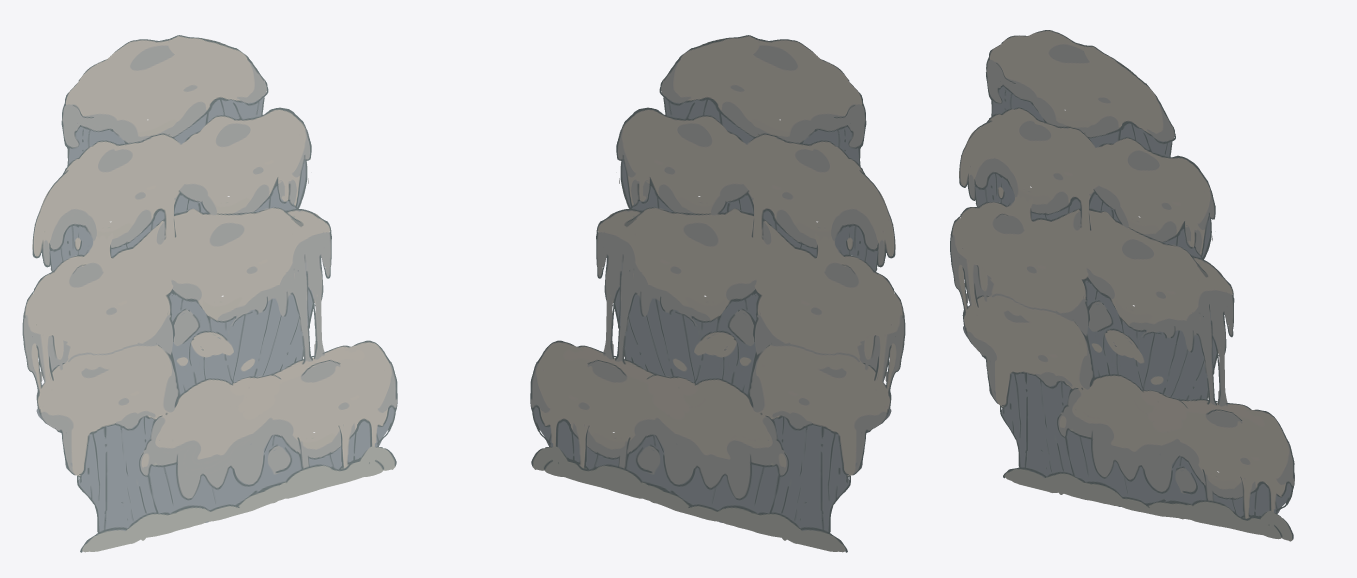
Rendered from Mesh_Adventure_SnowMountain_Rock_02.fbx.
3 renders of one model, left to right at view 1: azimuth 30°, elevation 25°; view 2: azimuth 150°, elevation 25°; view 3: azimuth 330°, elevation 25°, orthographic. The views are drawn at different scales.
Visible parts, largest first — view 1: Mesh_Adventure_SnowMountain_Rock_02; view 2: Mesh_Adventure_SnowMountain_Rock_02; view 3: Mesh_Adventure_SnowMountain_Rock_02.
Part boxes in pixels (x1,y1,x2,y2): Mesh_Adventure_SnowMountain_Rock_02: (22, 35, 397, 552); Mesh_Adventure_SnowMountain_Rock_02: (530, 35, 905, 552); Mesh_Adventure_SnowMountain_Rock_02: (950, 30, 1294, 541).
Bounding box in the file's own units: 90.69 × 100 × 0.
